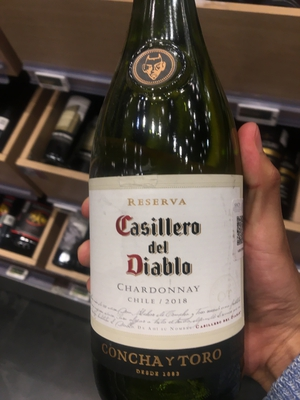casillero del diablo chardonnay: (80, 17, 248, 375)
